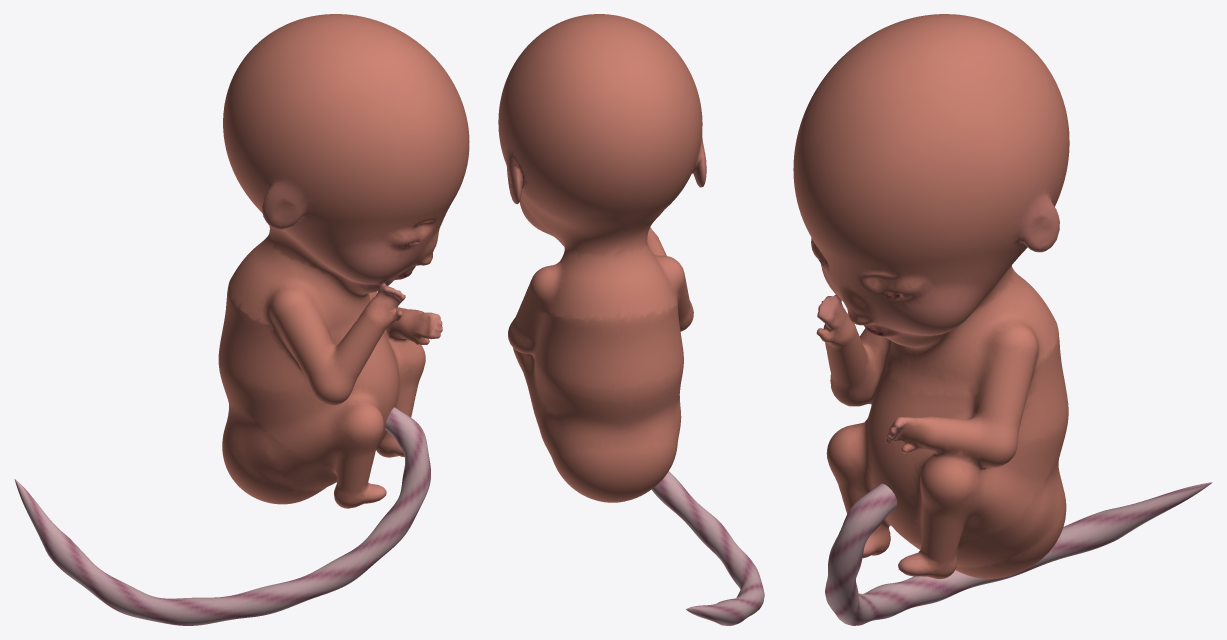
File: week_20.glb
The picture shows the model from 3 angles, left to right: view 1: azimuth 30°, elevation 25°; view 2: azimuth 150°, elevation 25°; view 3: azimuth 270°, elevation 25°; orthographic projection. The views are drawn at different scales.
Parts seen in each view (by area): view 1: skin, cord; view 2: skin, cord; view 3: skin, cord.
Part boxes in pixels (x1,y1,x2,y2): skin: [218, 14, 469, 508]; cord: [14, 407, 430, 625]; skin: [498, 14, 706, 502]; cord: [651, 471, 764, 625]; skin: [793, 14, 1069, 578]; cord: [825, 482, 1212, 625].
Bounding box in the file's own units: 1.76 × 2.93 × 1.69.
